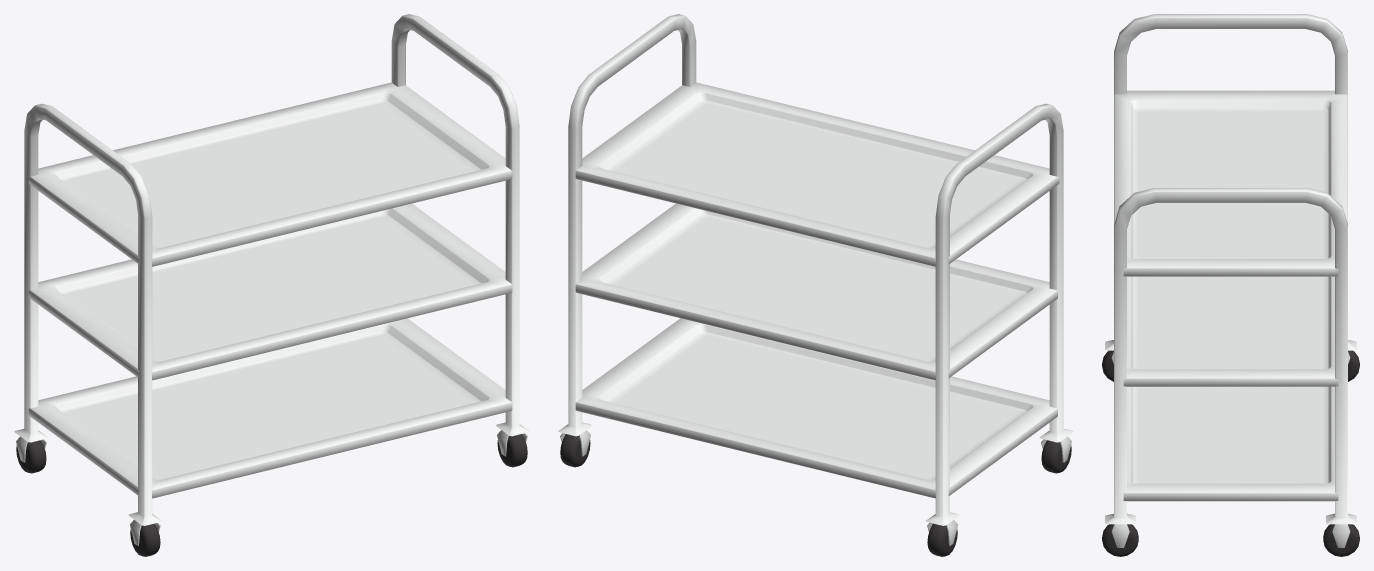
File: Troli Barang.fbx
3 renders of one model, left to right at view 1: azimuth 30°, elevation 25°; view 2: azimuth 150°, elevation 25°; view 3: azimuth 270°, elevation 25°, orthographic. The views are drawn at different scales.
Parts seen in each view (by area): view 1: Troli Barang; view 2: Troli Barang; view 3: Troli Barang.
Part boxes in pixels (<box>): Troli Barang: <box>14,14,529,556</box>; Troli Barang: <box>558,14,1073,556</box>; Troli Barang: <box>1102,14,1359,556</box>.
Size of the model in its own units: 93.2 by 86.33 by 55.13.
Materials: 1 (1 with a texture image).
